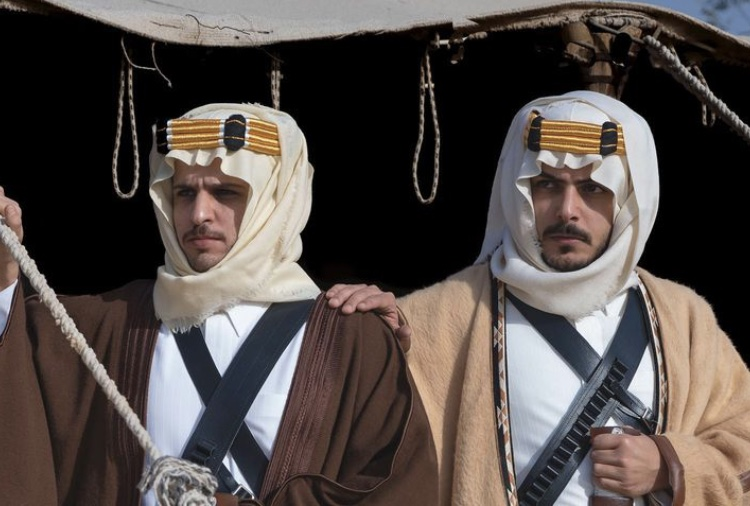Saudi_Founding_Day: (323, 88, 750, 506), (1, 101, 438, 506)
